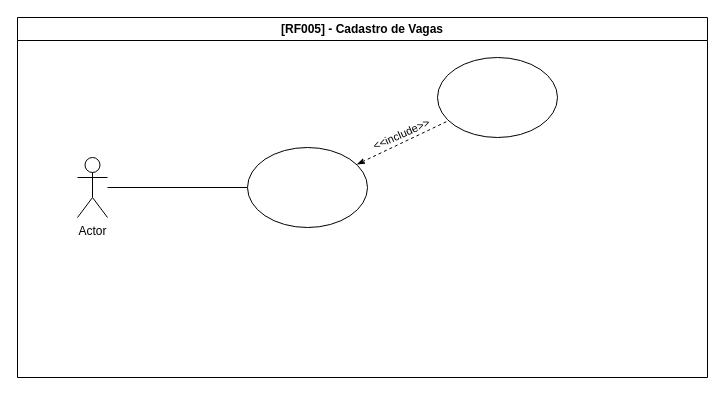
Image size: 725x395. Some labels were removed from this diagram. The centre of each missing label's shape, as x and y in pixels:
Cadastrar Nova Vaga: pixel 307 187
UC002 Autenticação: pixel 497 97
